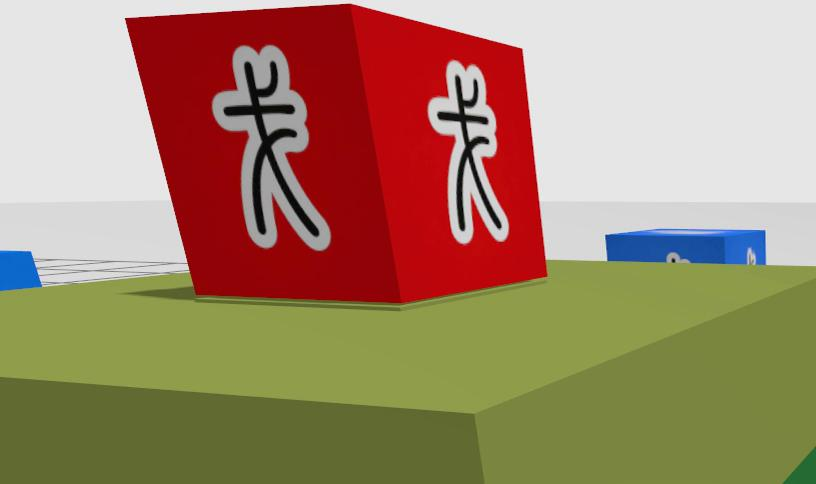KFS_FAKE: (127, 5, 546, 302), (212, 46, 331, 249), (428, 61, 509, 243)
